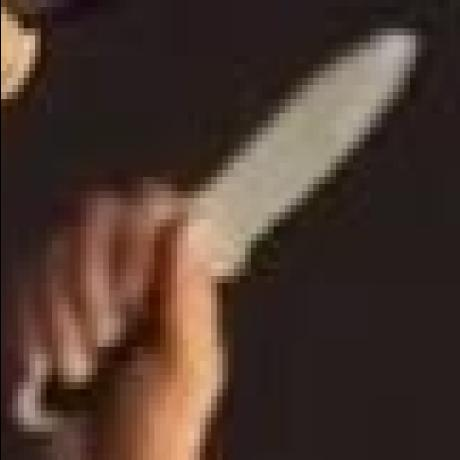weapon: (174, 22, 422, 273)
